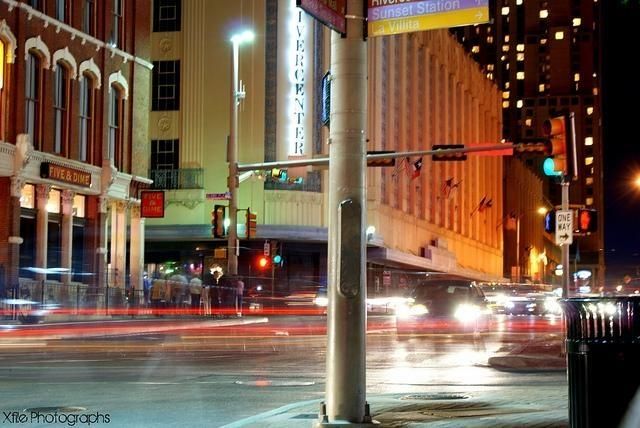car: (397, 279, 493, 341), (506, 286, 550, 316), (486, 290, 509, 314), (545, 292, 561, 316), (248, 284, 272, 296)
